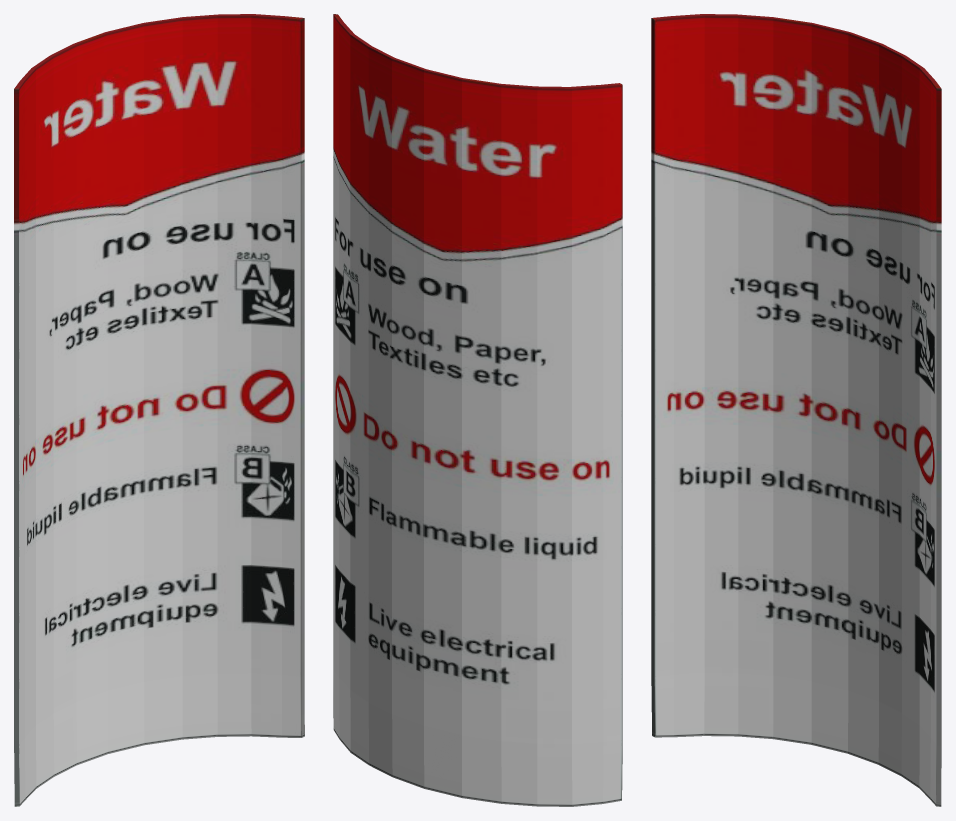
File: fire_mesh_renderer.fbx
3 renders of one model, left to right at view 1: azimuth 30°, elevation 25°; view 2: azimuth 150°, elevation 25°; view 3: azimuth 330°, elevation 25°, orthographic.
Visible parts, largest first — view 1: Plane.003; view 2: Plane.003; view 3: Plane.003.
Boxes of the visible parts, box(x1,y1,x2,y2) form: Plane.003: box(14, 14, 304, 806); Plane.003: box(333, 14, 622, 806); Plane.003: box(651, 14, 941, 806).
Bounding box in the file's own units: 223 × 529 × 48.46.
